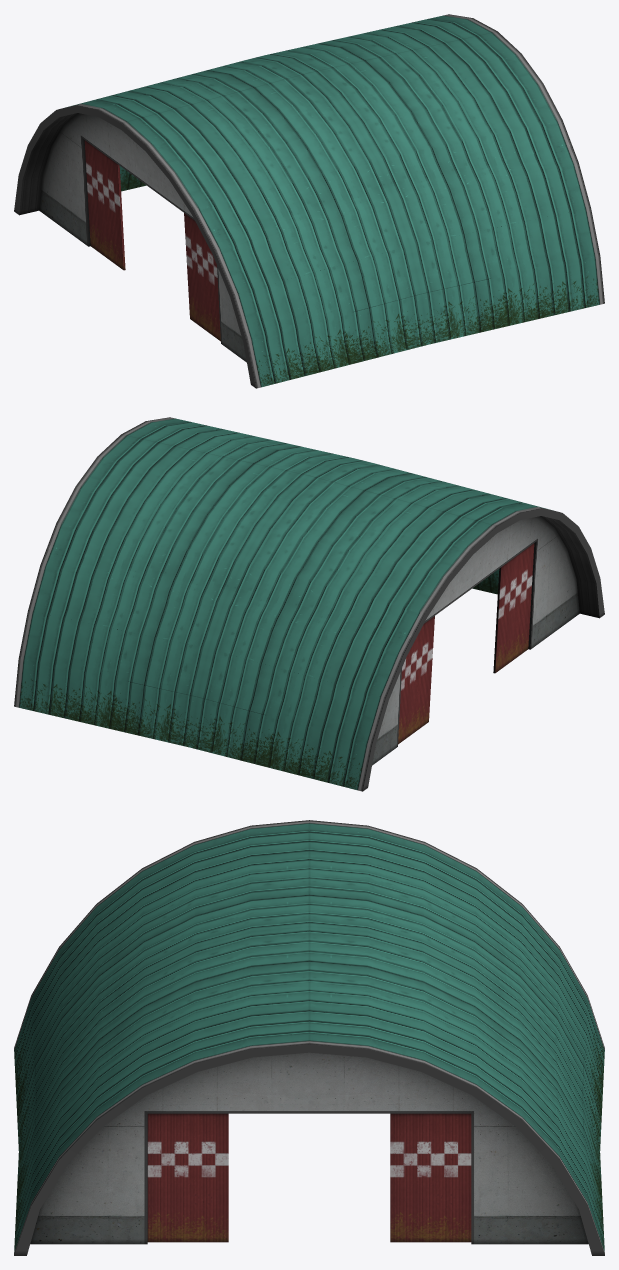
Rendered from Hangar_Open.fbx.
3 views of the same model, one above another, from view 1: azimuth 30°, elevation 25°; view 2: azimuth 150°, elevation 25°; view 3: azimuth 270°, elevation 25° (orthographic). The views are drawn at different scales.
Visible parts, largest first — view 1: Hangar_Open; view 2: Hangar_Open; view 3: Hangar_Open.
Part boxes in pixels (x1,y1,x2,y2): Hangar_Open: (14,14,604,388); Hangar_Open: (14,417,604,791); Hangar_Open: (14,820,604,1255).
Bounding box in the file's own units: 91.85 × 43.07 × 102.
